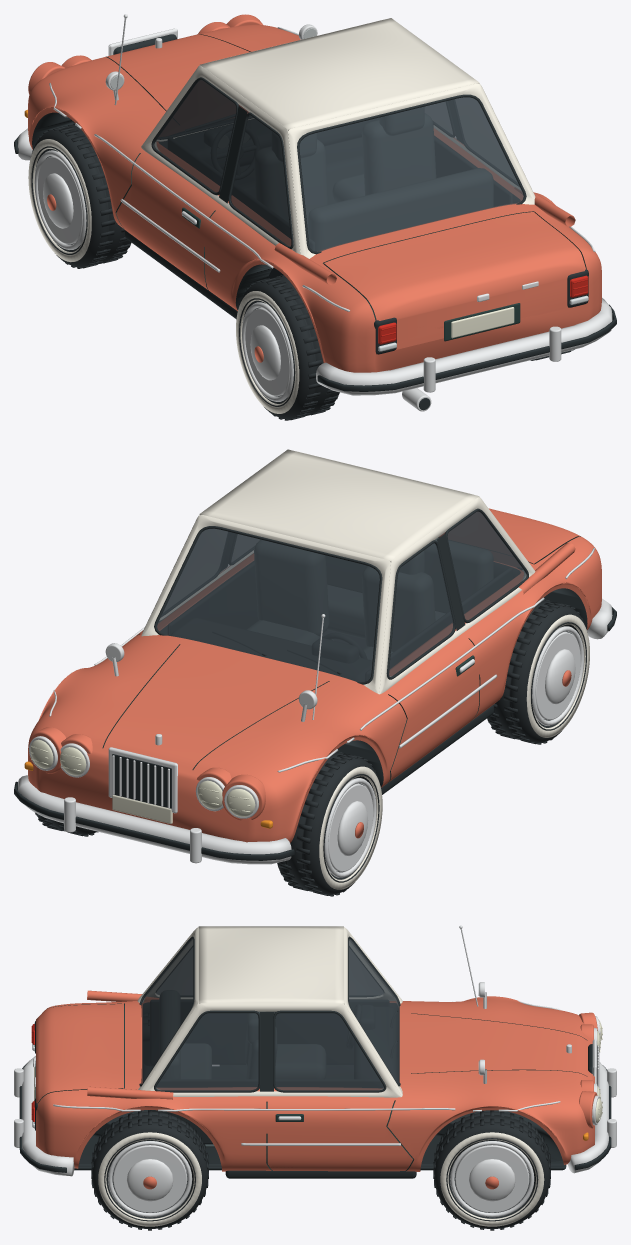
Rendered from ritz.fbx.
The picture shows the model from 3 angles, top to bottom: view 1: azimuth 30°, elevation 25°; view 2: azimuth 150°, elevation 25°; view 3: azimuth 270°, elevation 25°; orthographic projection. The views are drawn at different scales.
Visible parts, largest first — view 1: Body, Wheel_FL_Mesh, Wheel_RL_Mesh; view 2: Body, Wheel_FL_Mesh, Wheel_RL_Mesh; view 3: Body, Wheel_RR_Mesh, Wheel_FR_Mesh.
Boxes of the visible parts, <box> form: Body: <box>14,14,616,411</box>; Wheel_FL_Mesh: <box>28,123,131,268</box>; Wheel_RL_Mesh: <box>236,275,339,420</box>; Body: <box>14,449,616,864</box>; Wheel_FL_Mesh: <box>277,751,382,896</box>; Wheel_RL_Mesh: <box>487,599,589,744</box>; Body: <box>14,925,616,1178</box>; Wheel_RR_Mesh: <box>91,1110,208,1230</box>; Wheel_FR_Mesh: <box>433,1110,550,1230</box>.
Bounding box in the file's own units: 206 × 168 × 423.
